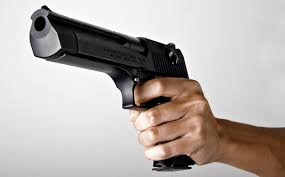gun: (20, 2, 202, 173)
